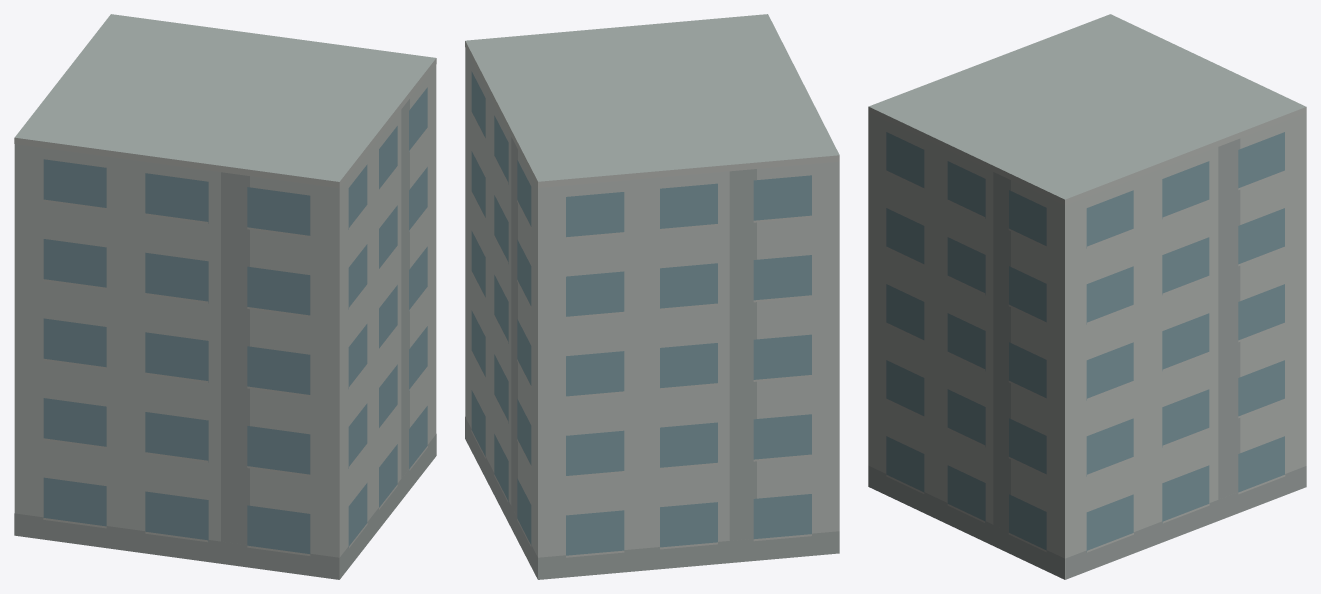
The model's file is survey-upis-32890878.glb.
The picture shows the model from 3 angles, left to right: view 1: azimuth 30°, elevation 25°; view 2: azimuth 150°, elevation 25°; view 3: azimuth 270°, elevation 25°; orthographic projection. The views are drawn at different scales.
Visible parts, largest first — view 1: survey-upis-32890878.tmp; view 2: survey-upis-32890878.tmp; view 3: survey-upis-32890878.tmp.
Part boxes in pixels (x1,y1,x2,y2): survey-upis-32890878.tmp: [14, 14, 436, 579]; survey-upis-32890878.tmp: [465, 14, 839, 579]; survey-upis-32890878.tmp: [868, 14, 1306, 579].
Bounding box in the file's own units: 15.82 × 15.1 × 15.77.
